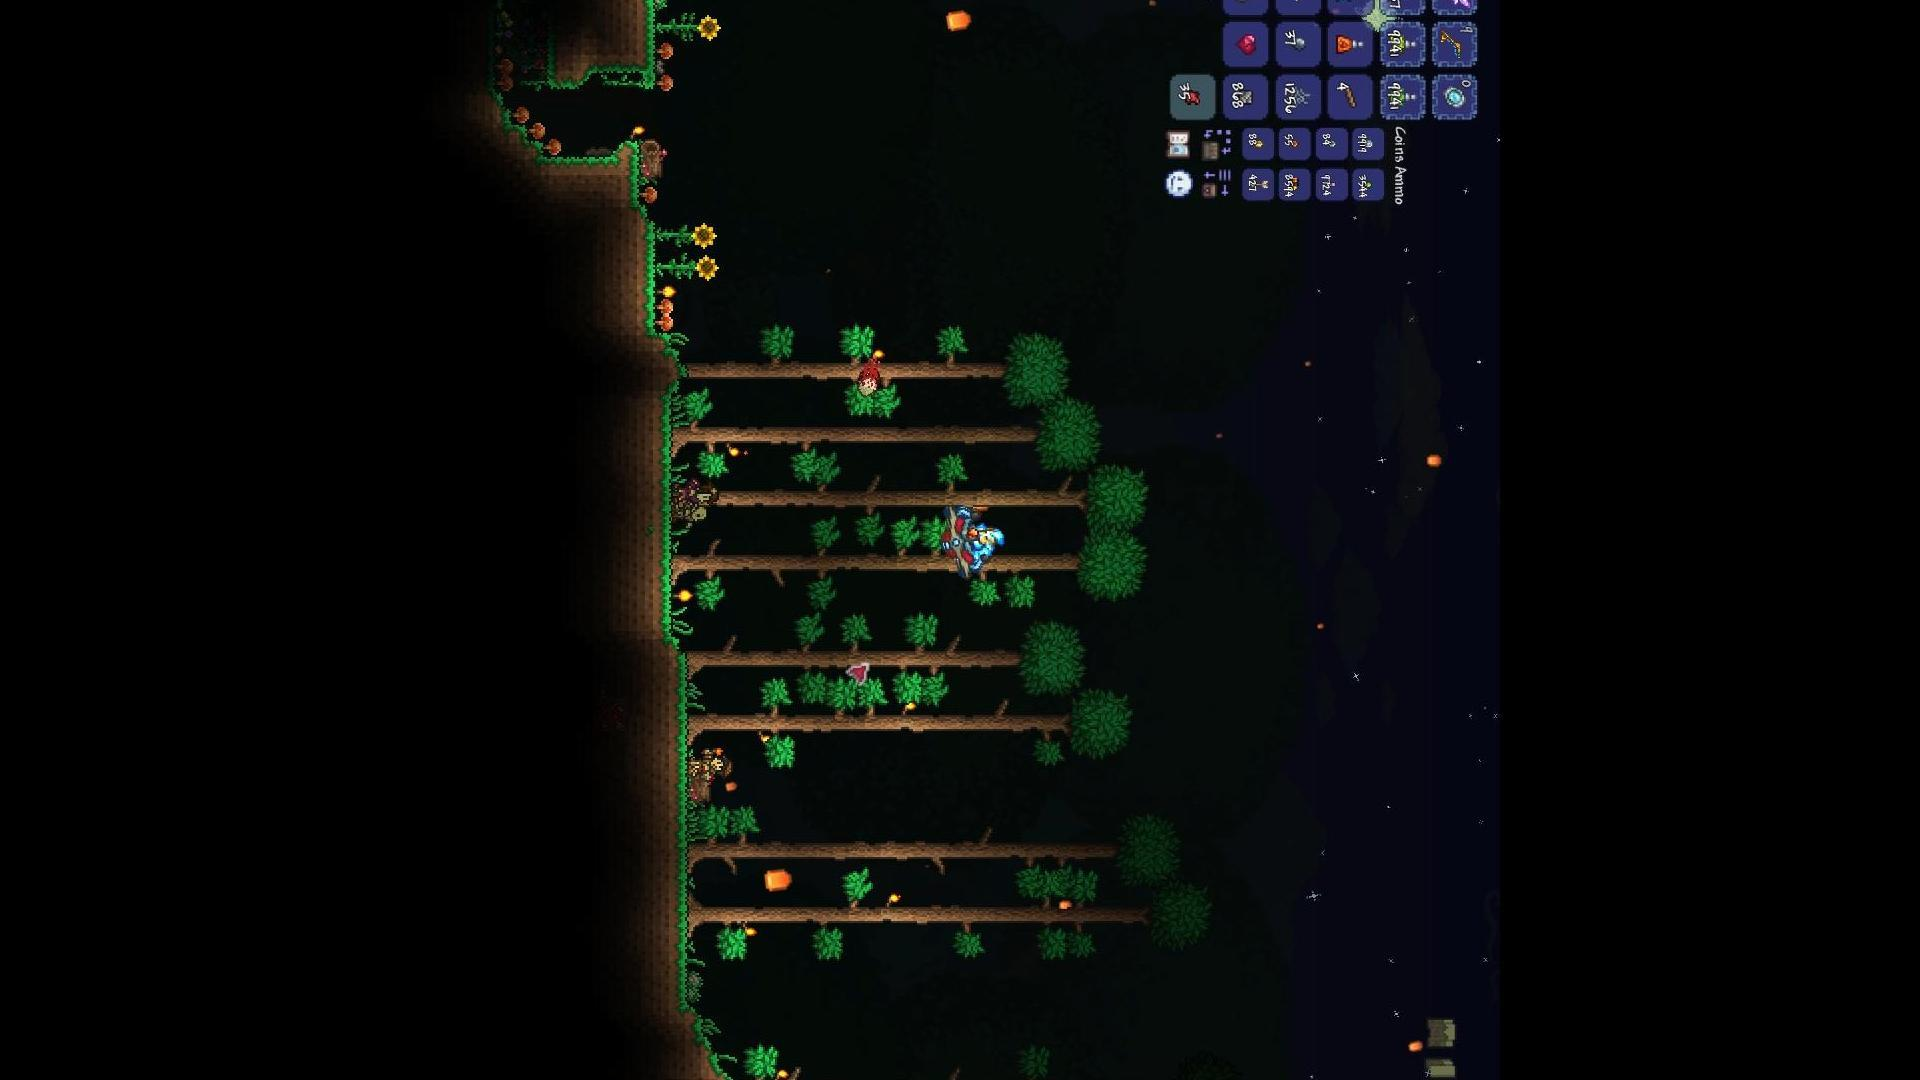eye: (849, 353, 887, 400)
mirror: (1437, 83, 1466, 108)
